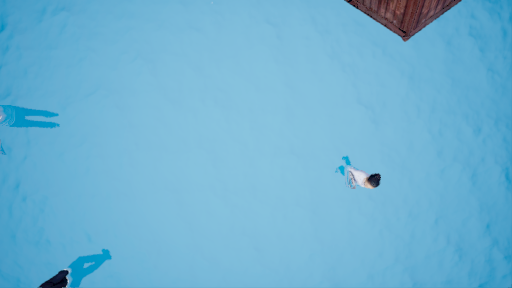person: (334, 160, 380, 196)
